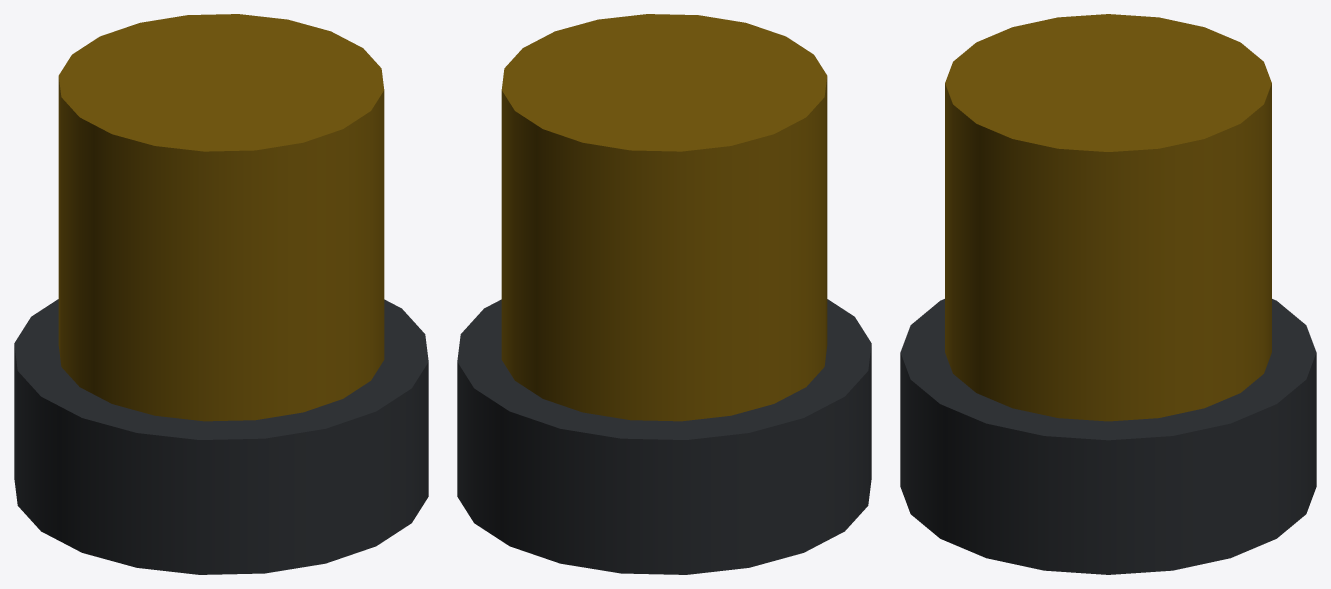
Rendered from warning_light.glb.
3 views of the same model, side by side, from view 1: azimuth 30°, elevation 25°; view 2: azimuth 150°, elevation 25°; view 3: azimuth 270°, elevation 25° (orthographic).
Parts seen in each view (by area): view 1: Lamp, Light_Static; view 2: Lamp, Light_Static; view 3: Lamp, Light_Static.
Boxes of the visible parts, x1=… form: Lamp: x1=58, y1=14, x2=384, y2=421; Light_Static: x1=14, y1=299, x2=428, y2=574; Lamp: x1=501, y1=14, x2=827, y2=421; Light_Static: x1=457, y1=299, x2=871, y2=574; Lamp: x1=945, y1=14, x2=1271, y2=421; Light_Static: x1=900, y1=299, x2=1316, y2=574.
Bounding box in the file's own units: 0.14 × 0.15 × 0.14.
